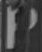Parking: (1, 1, 38, 49)
